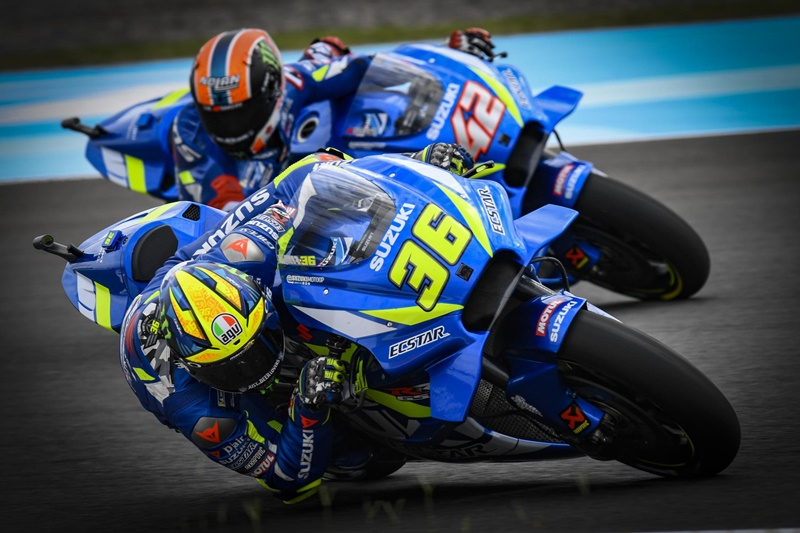helmet: (152, 259, 284, 396), (173, 21, 298, 154)
